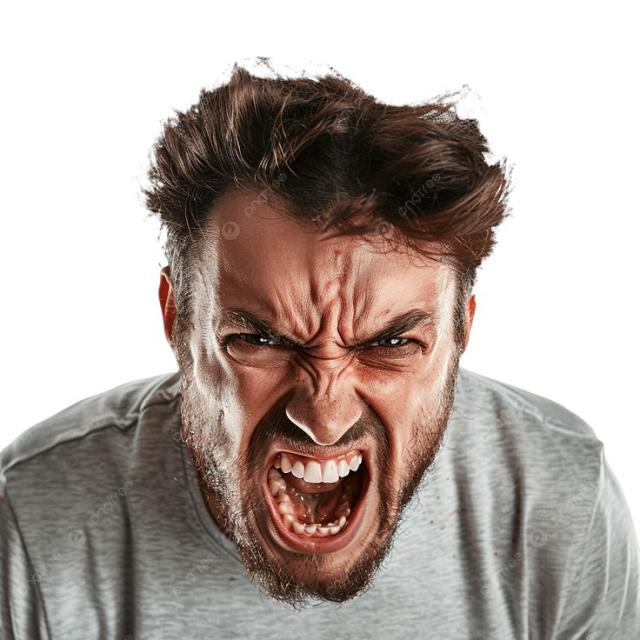sem_oculos: (163, 268, 476, 370)
